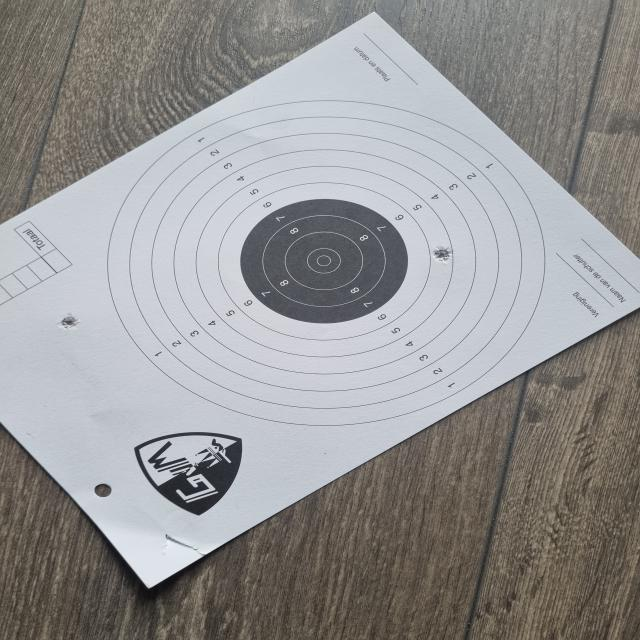0: (57, 314, 80, 330)
5: (431, 247, 454, 264)
Target: (106, 99, 546, 426)
black_contour: (239, 198, 408, 324)
